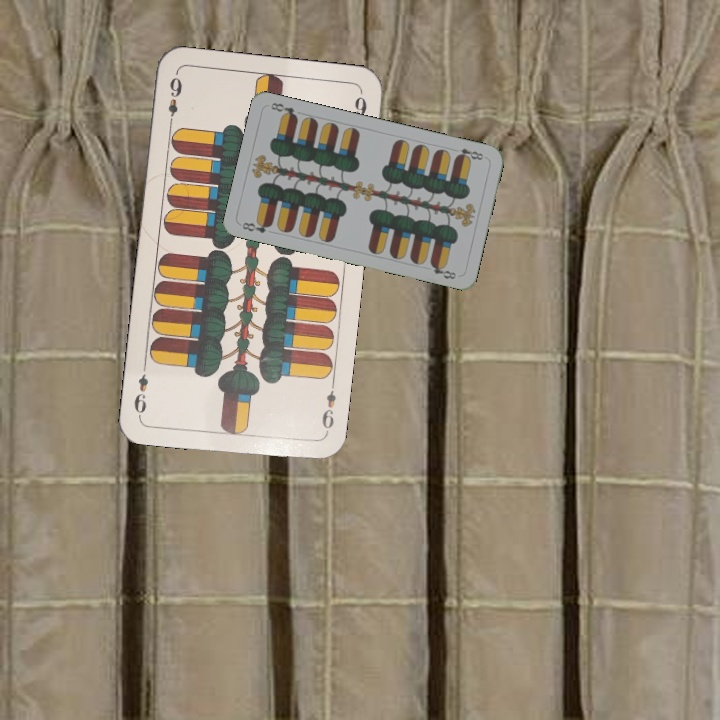E8: (238, 217, 274, 236), (452, 144, 486, 163)
E9: (317, 379, 339, 438), (164, 73, 185, 129)
